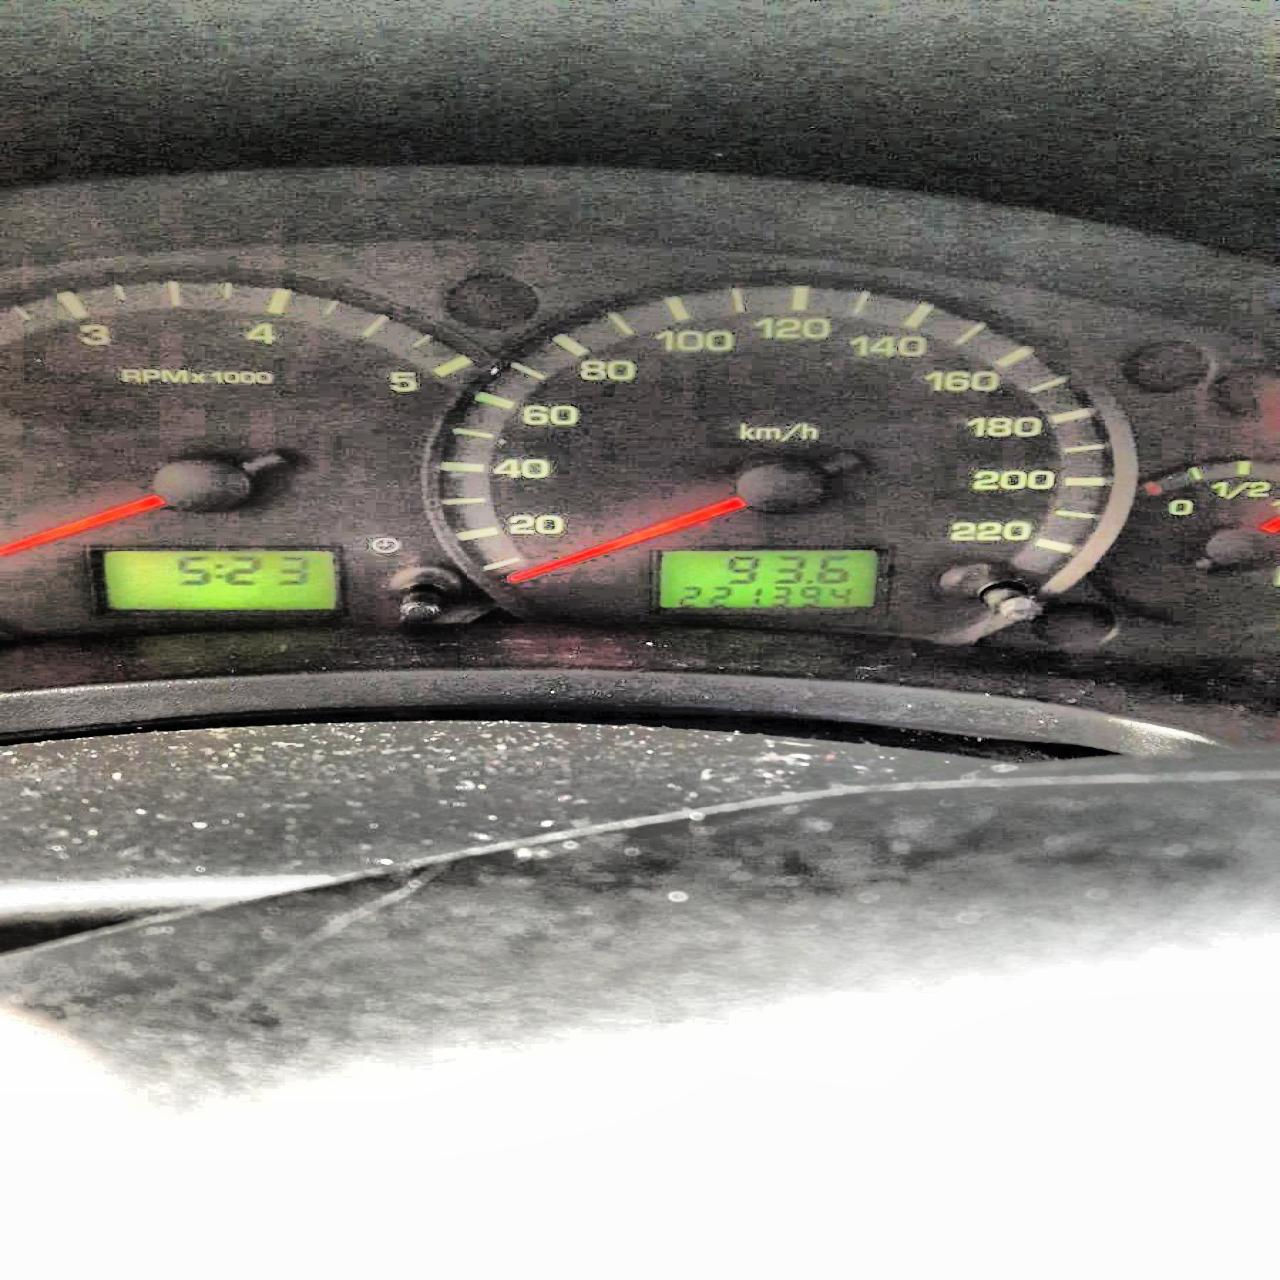-: (804, 579, 812, 584)
1: (753, 587, 762, 606)
2: (706, 586, 729, 607), (678, 586, 701, 606)
3: (774, 554, 805, 584), (770, 586, 790, 605)
4: (829, 587, 850, 605)
6: (816, 554, 849, 583)
9: (727, 554, 757, 584), (798, 586, 822, 606)
odometer: (656, 549, 880, 610)
